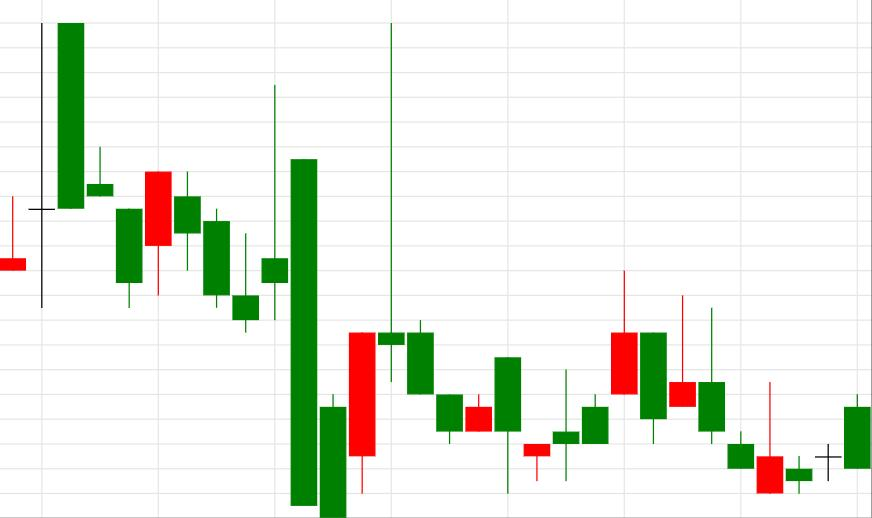inverse_hammer_rise: (610, 269, 782, 493)
